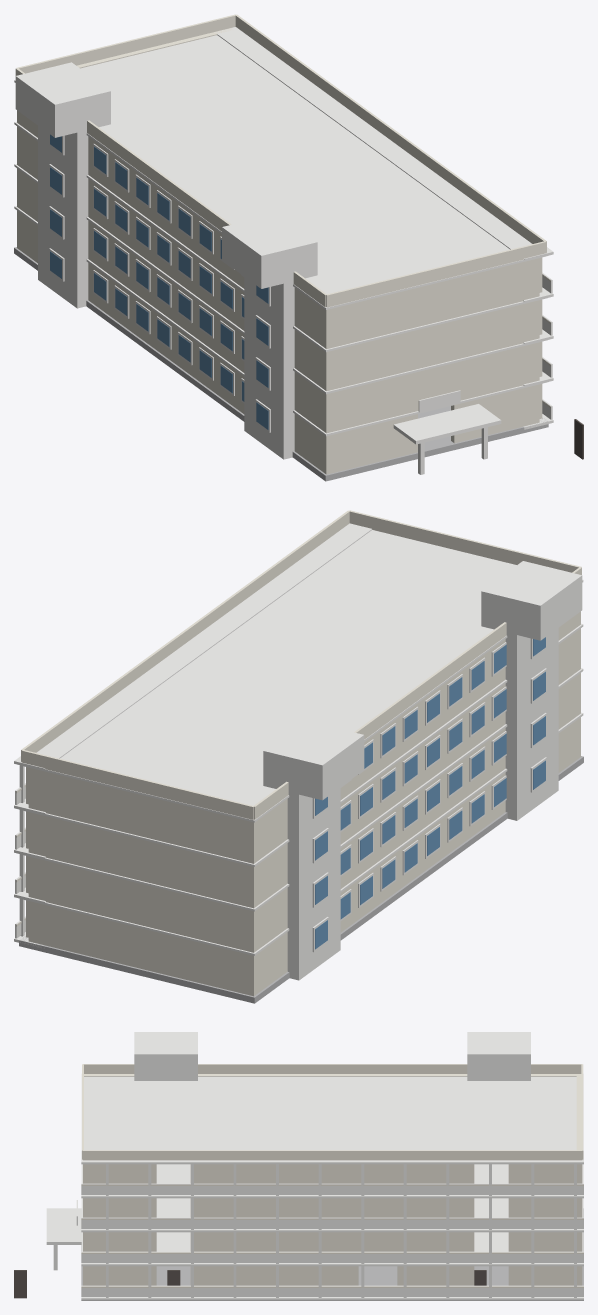
Rendered from comprehensive.glb.
3 views of the same model, one above another, from view 1: azimuth 30°, elevation 25°; view 2: azimuth 150°, elevation 25°; view 3: azimuth 270°, elevation 25° (orthographic). The views are drawn at different scales.
Visible parts, largest first — view 1: p119, p5, p1, p120, p130, p208, p131, p121, p276, p115, p274, p3 (+8 smaller); view 2: p119, p2, p1, p120, p130, p208, p121, p131, p276, p115, p273, p274 (+4 smaller); view 3: p119, p276, p11, p14, p17, p213, p215, p209, p211, p275, p8, p121 (+28 smaller).
Part boxes in pixels (bbox=[...]): p119: bbox=[14, 35, 545, 309]; p5: bbox=[332, 258, 539, 431]; p1: bbox=[17, 110, 332, 474]; p120: bbox=[38, 126, 88, 308]; p130: bbox=[244, 277, 294, 459]; p208: bbox=[215, 27, 553, 261]; p131: bbox=[222, 213, 317, 288]; p121: bbox=[15, 62, 110, 137]; p276: bbox=[235, 14, 546, 252]; p115: bbox=[14, 247, 548, 481]; p274: bbox=[326, 241, 546, 307]; p3: bbox=[332, 414, 417, 472]; p119: bbox=[20, 530, 583, 822]; p2: bbox=[28, 767, 247, 994]; p1: bbox=[247, 611, 580, 996]; p120: bbox=[287, 787, 340, 980]; p130: bbox=[505, 628, 558, 820]; p208: bbox=[14, 523, 372, 771]; p121: bbox=[263, 720, 364, 800]; p131: bbox=[481, 561, 582, 640]; p276: bbox=[21, 510, 349, 761]; p115: bbox=[19, 756, 583, 1003]; p273: bbox=[21, 749, 254, 819]; p274: bbox=[349, 510, 581, 572]; p119: bbox=[81, 1074, 583, 1150]; p276: bbox=[83, 1150, 582, 1160]; p11: bbox=[190, 1232, 474, 1251]; p14: bbox=[190, 1198, 474, 1217]; p17: bbox=[190, 1164, 474, 1183]; p213: bbox=[81, 1217, 583, 1228]; p215: bbox=[81, 1183, 583, 1194]; p209: bbox=[81, 1285, 583, 1296]; p211: bbox=[81, 1251, 583, 1262]; p275: bbox=[83, 1064, 581, 1073]; p8: bbox=[190, 1266, 358, 1285]; p121: bbox=[467, 1032, 530, 1080].
Size of the model in its own units: 21.27 by 16.4 by 50.22.
